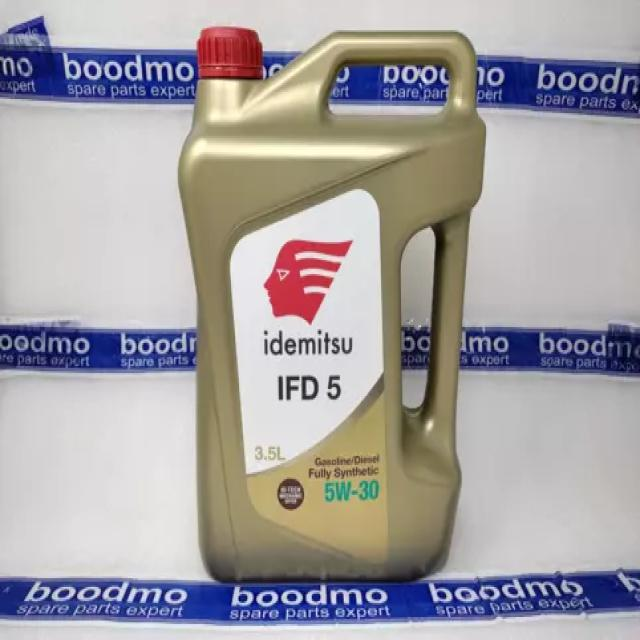motor_oil: (175, 19, 488, 582)
